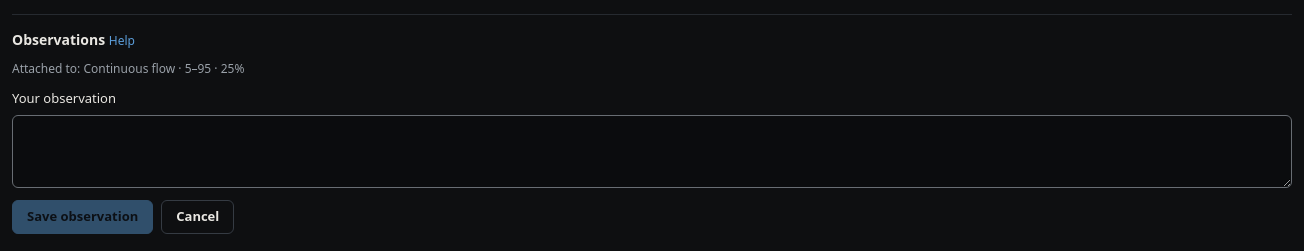
Scenario: saved lab observations › saves the captured preview only on request and identifies its local storage
In the text box labelled "Your observation": (652, 151) 12,115 -> 1292,188, type "The plotted range change is too abrupt."
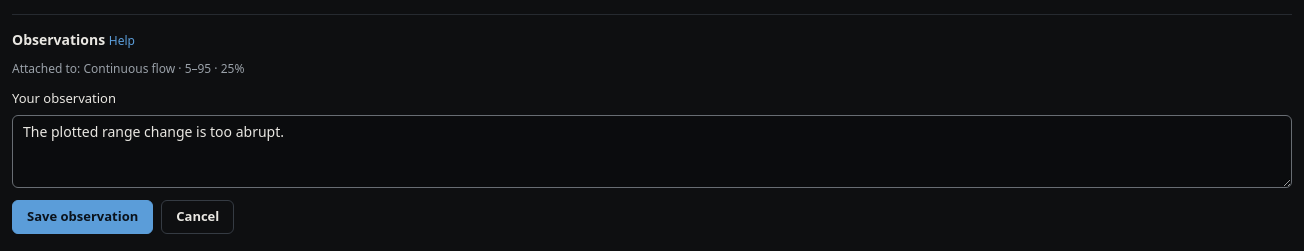
Click the button "Save observation": (83, 217) 12,200 -> 153,234
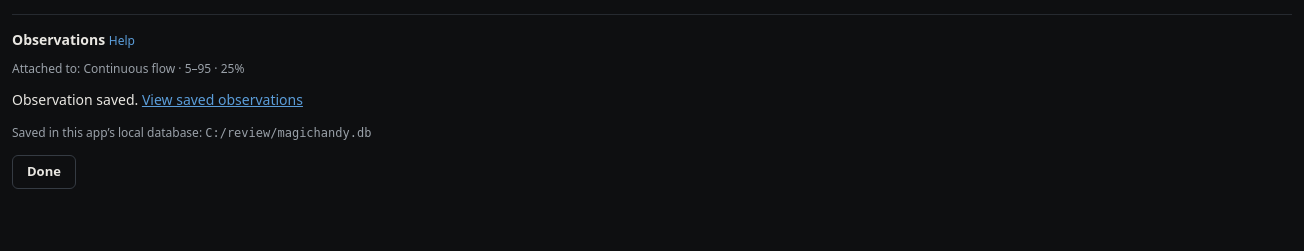
Expected: the text "C:/review/magichandy.db" is shown, 205,125 -> 371,143
